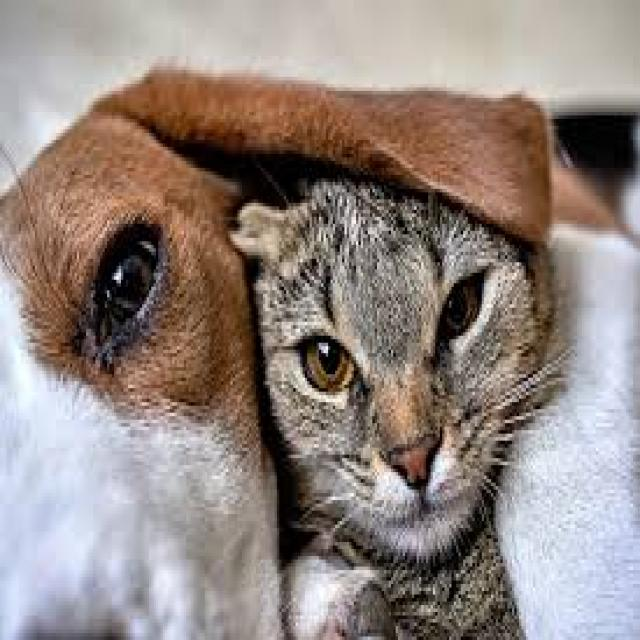Cat: (232, 165, 540, 564)
Dog: (0, 87, 245, 440)
